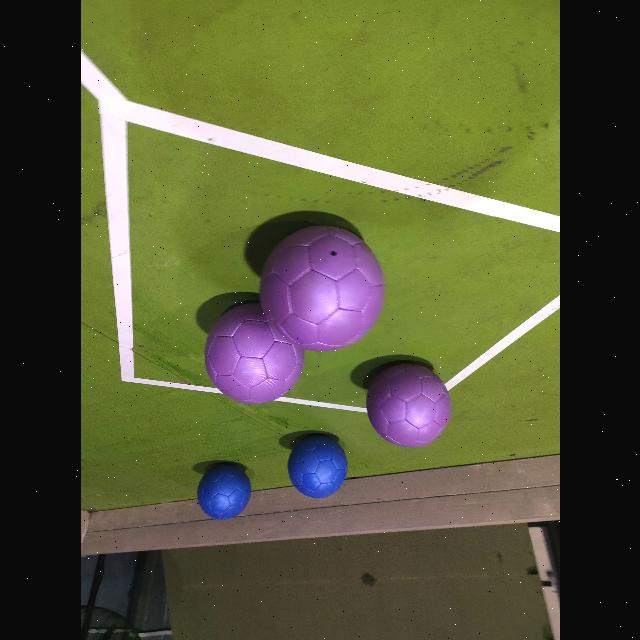B: (287, 436, 347, 498), (196, 464, 250, 520)
P: (258, 222, 388, 350), (204, 304, 302, 404), (366, 364, 450, 448)
